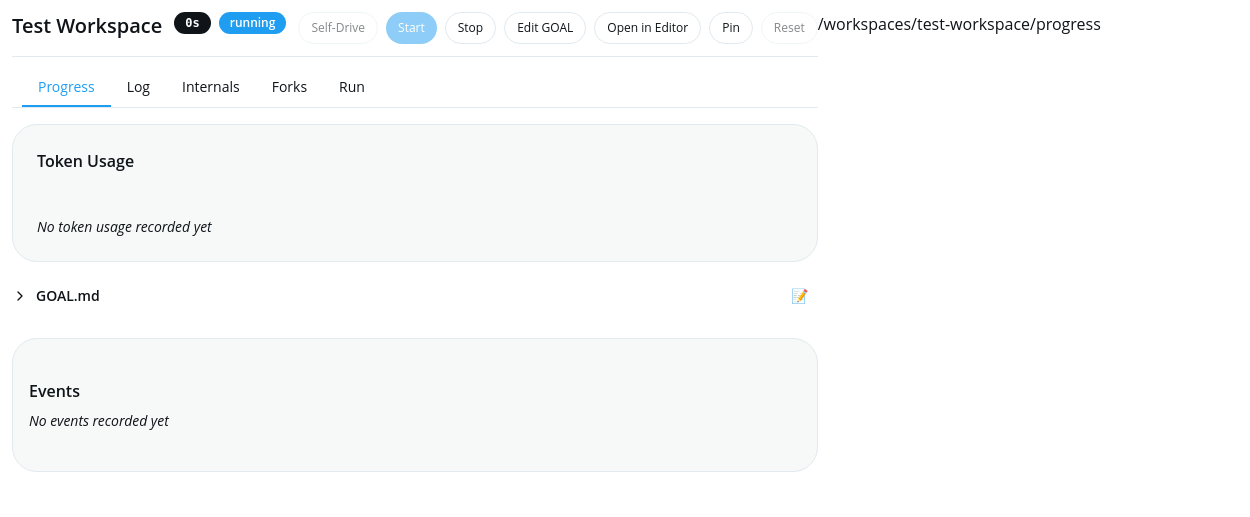
Test: WorkspaceDetail › error handling › shows error message when stop fails
Click the button "Stop".
click(470, 28)  # box [445,12,496,44]
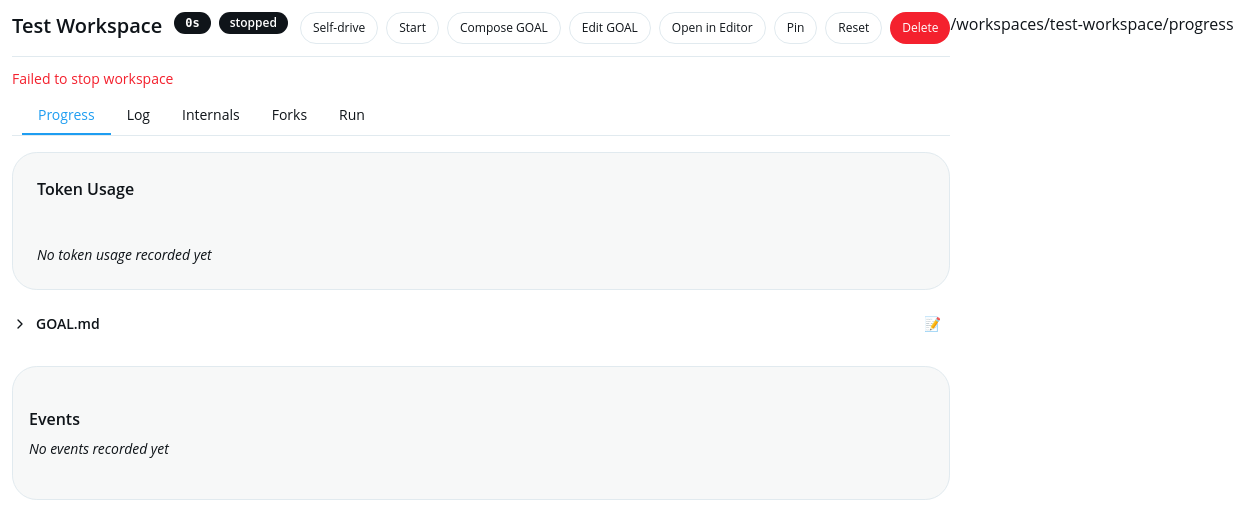
Now the text "Failed to stop workspace" is shown, box [12,69,174,88]
